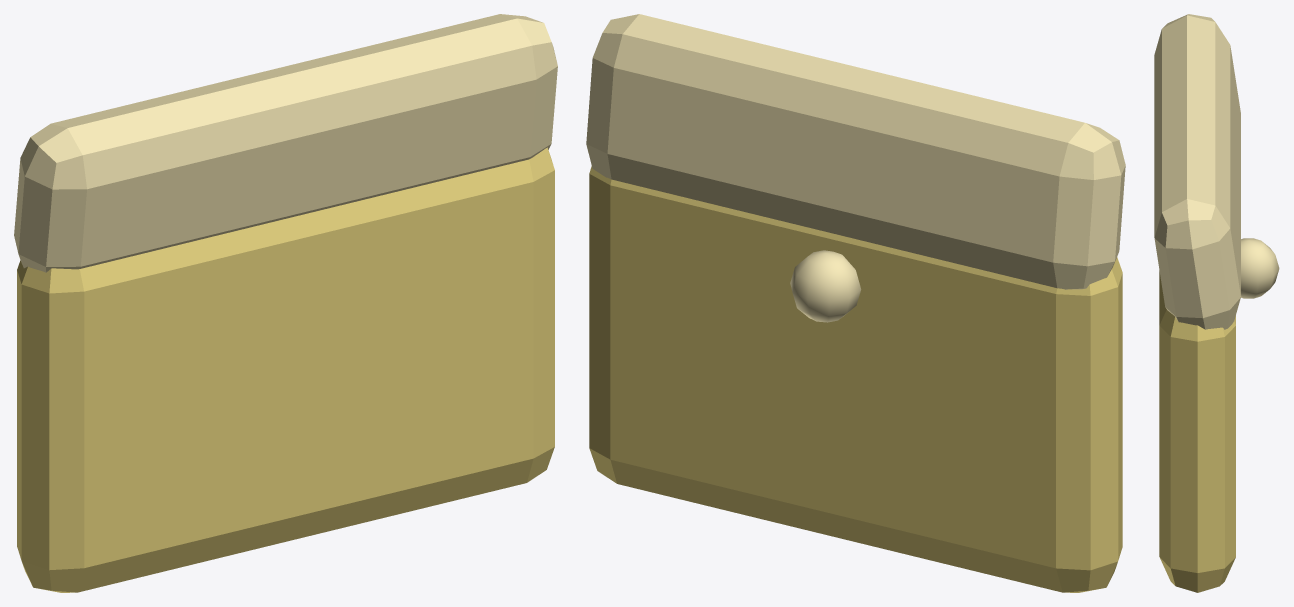
The model's file is VM-ACC-8812.glb.
3 views of the same model, side by side, from view 1: azimuth 30°, elevation 25°; view 2: azimuth 150°, elevation 25°; view 3: azimuth 270°, elevation 25° (orthographic). The views are drawn at different scales.
Parts seen in each view (by area): view 1: Clutch Geométrico Brass Doré; view 2: Clutch Geométrico Brass Doré; view 3: Clutch Geométrico Brass Doré.
Part boxes in pixels (<box>): Clutch Geométrico Brass Doré: <box>14,14,557,592</box>; Clutch Geométrico Brass Doré: <box>586,14,1125,592</box>; Clutch Geométrico Brass Doré: <box>1154,14,1279,592</box>.
Size of the model in its own units: 0.208 by 0.1765 by 0.0509.
